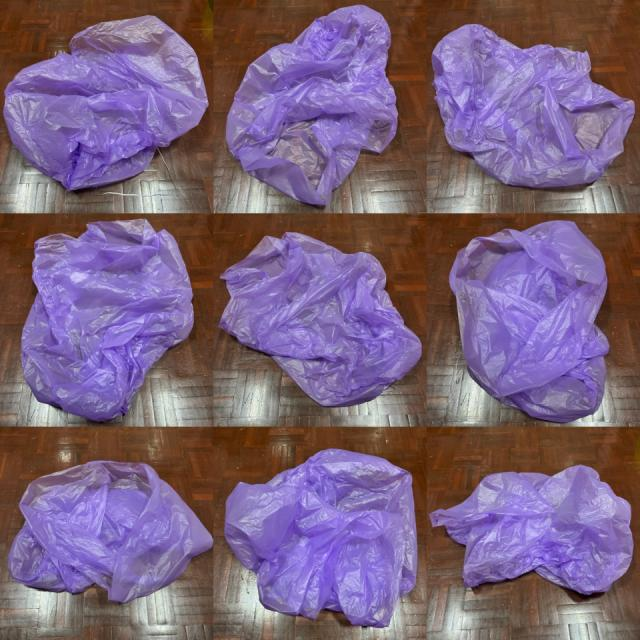Single-layer Plastic: (4, 16, 208, 190), (220, 232, 421, 406), (21, 219, 194, 421), (226, 5, 398, 205), (225, 449, 418, 627), (432, 24, 635, 188), (450, 221, 609, 422), (9, 461, 212, 602), (430, 465, 634, 595)
